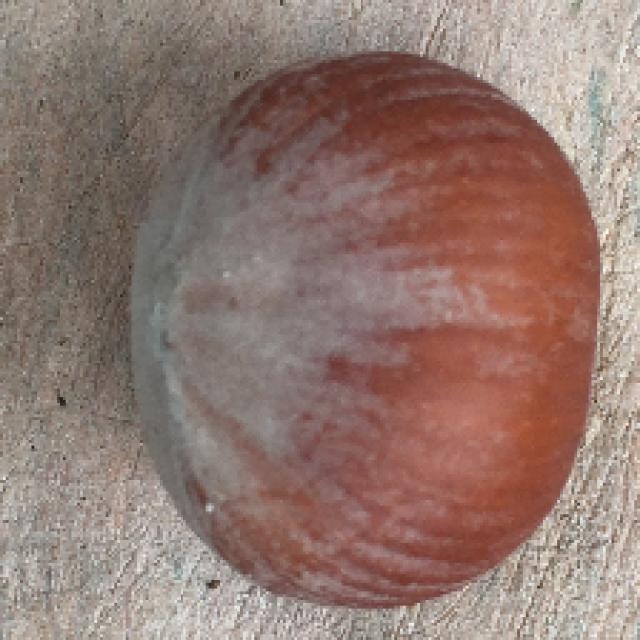qualityHazelnut: (131, 48, 604, 610)
